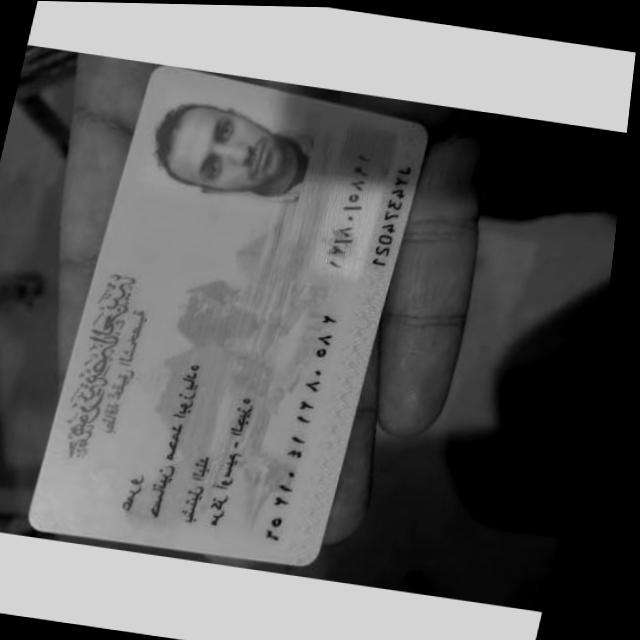front: (28, 65, 429, 562)
